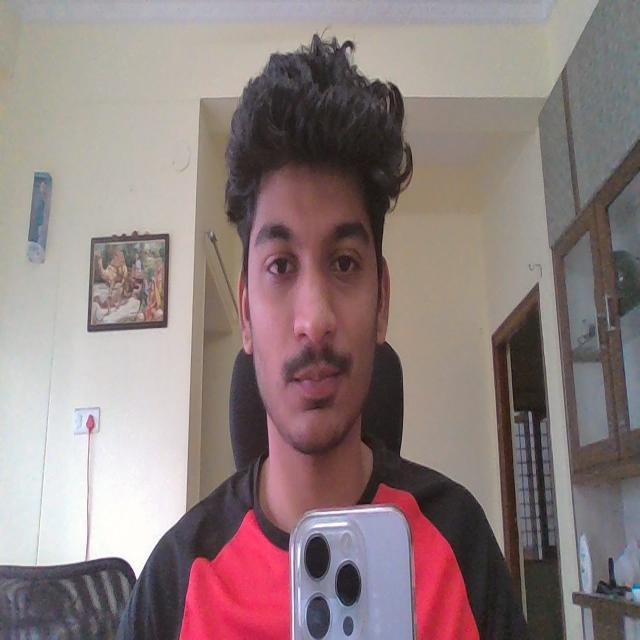phone: (292, 506, 414, 640)
